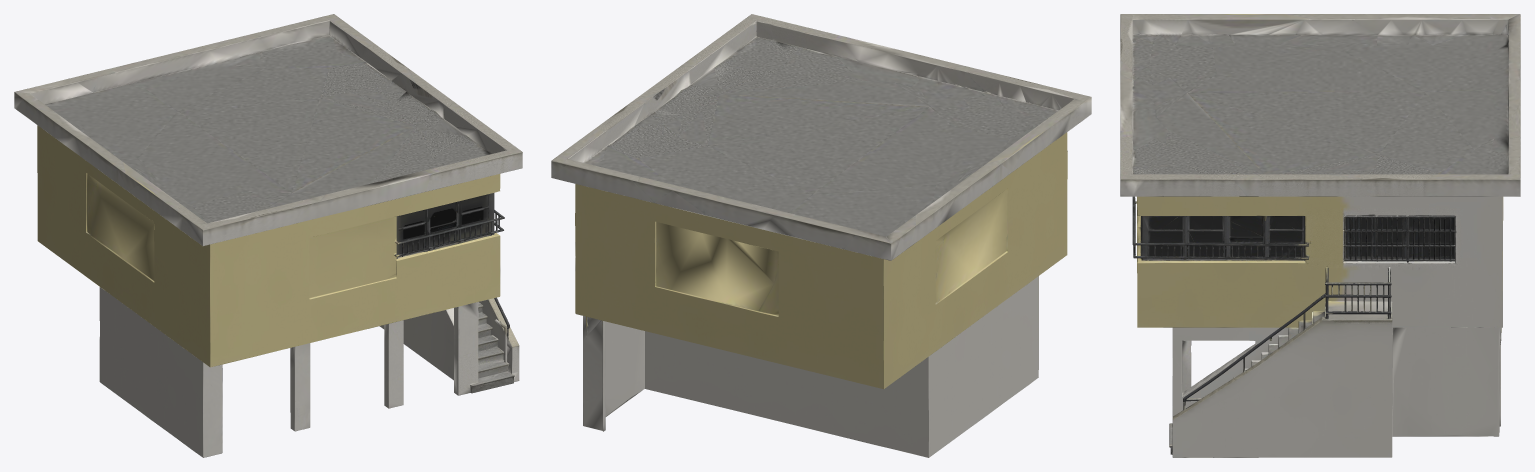
File: apt-dingbat.glb
3 views of the same model, side by side, from view 1: azimuth 30°, elevation 25°; view 2: azimuth 150°, elevation 25°; view 3: azimuth 270°, elevation 25° (orthographic). The views are drawn at different scales.
Size of the model in its own units: 9.2 by 6.5 by 8.81.
Materials: 5 (5 with a texture image).
